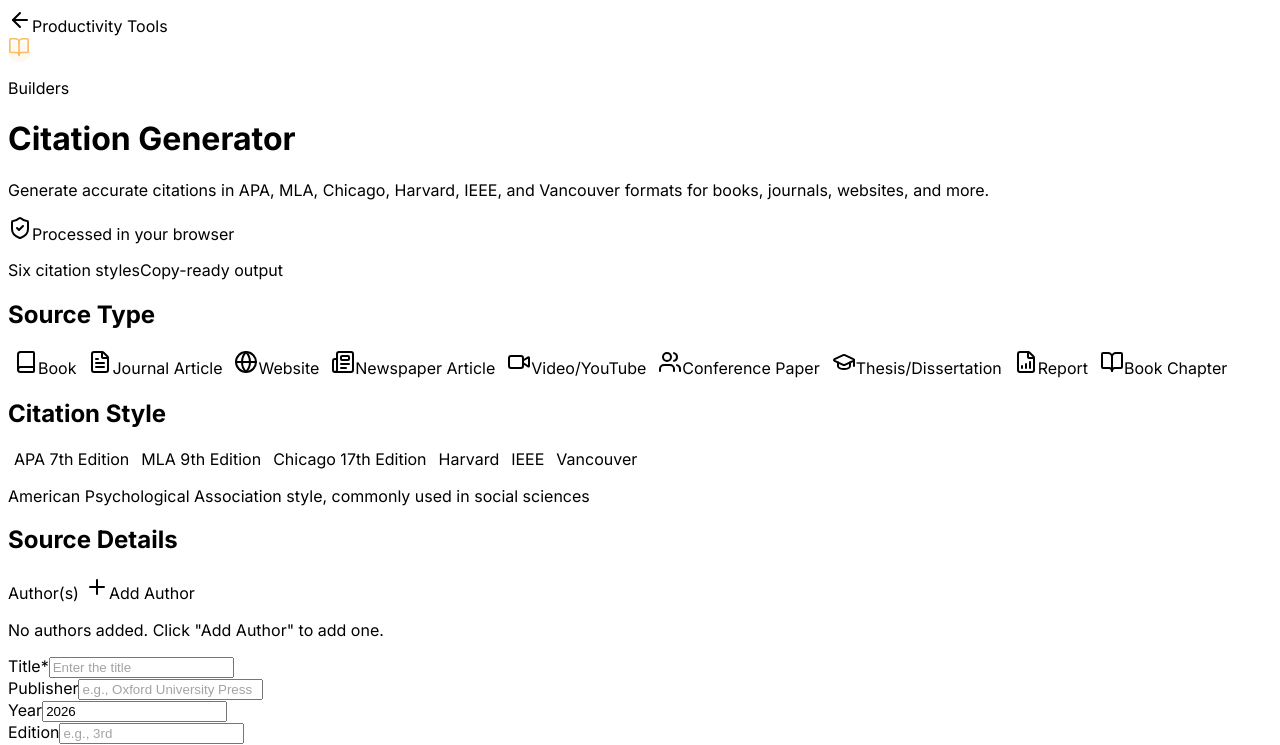
Test: CitationGeneratorPage › Source Type Selection › shows editors field when chapter is selected
Click the button "Book Chapter". click: coordinates (1164, 364)
box: x1=1094 y1=349 x2=1233 y2=379
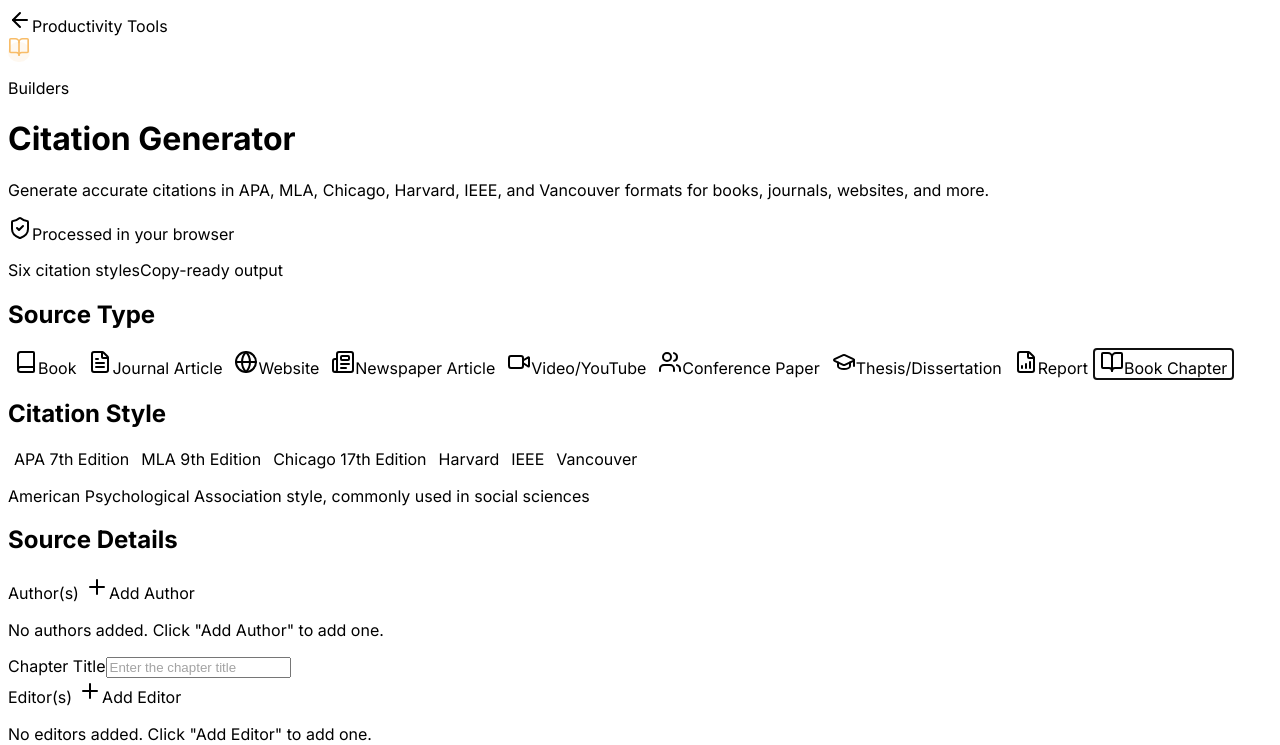
Now the button "Add Editor" is shown, box x1=72 y1=678 x2=187 y2=708
